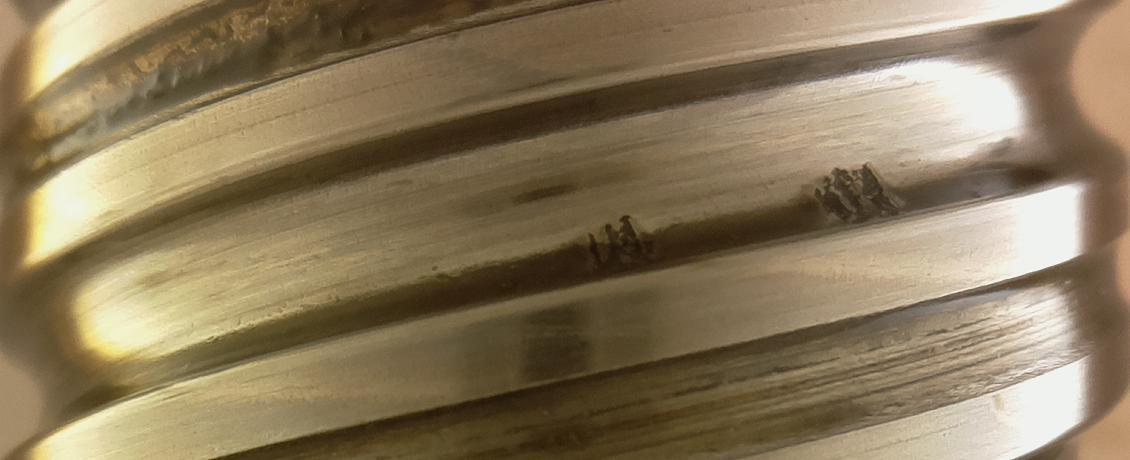pitting: (814, 164, 897, 224), (587, 215, 646, 272)
